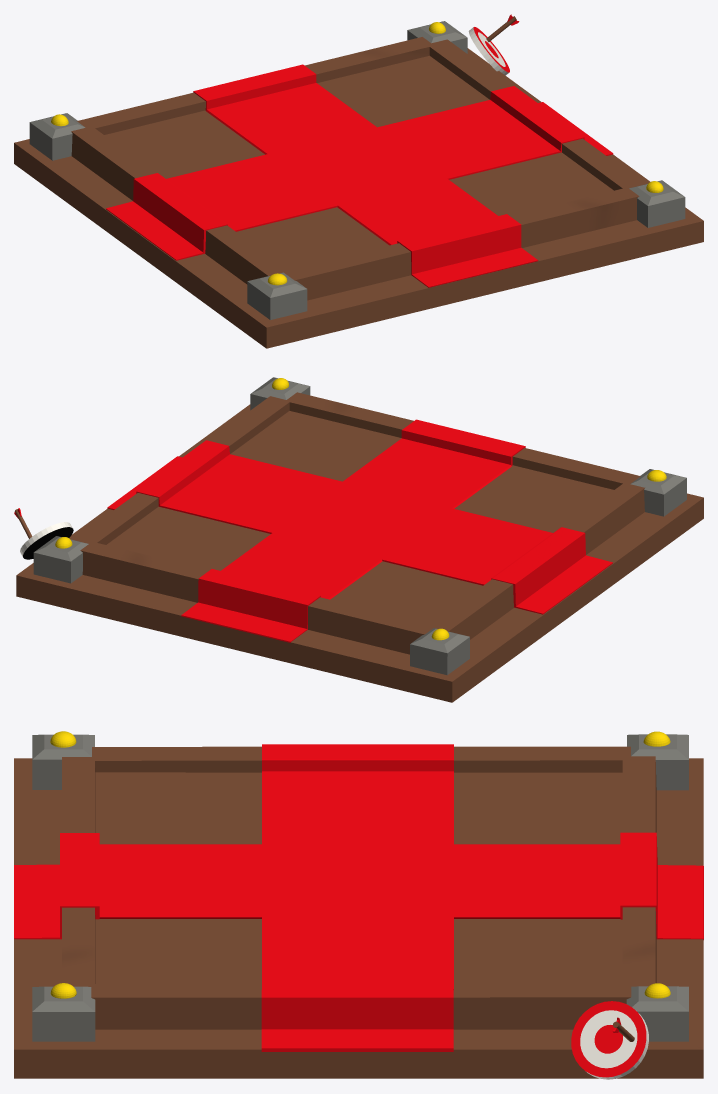
File: Archirrd.fbx
3 renders of one model, top to bottom at view 1: azimuth 30°, elevation 25°; view 2: azimuth 150°, elevation 25°; view 3: azimuth 270°, elevation 25°, orthographic. The views are drawn at different scales.
Parts seen in each view (by area): view 1: Cube; view 2: Cube; view 3: Cube.
Part boxes in pixels (x1=…): Cube: x1=14, y1=14, x2=703, y2=348; Cube: x1=14, y1=377, x2=703, y2=702; Cube: x1=14, y1=731, x2=703, y2=1079.
Size of the model in its own units: 432 by 51.24 by 400.
Materials: 2 (2 with a texture image).
